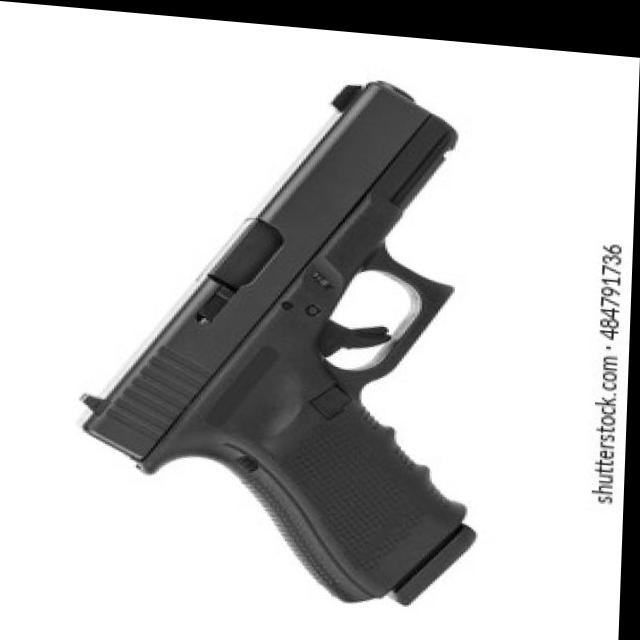handgun: (71, 45, 503, 614)
